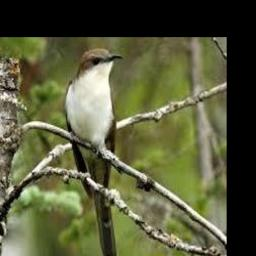Cuckoo: (64, 48, 119, 256)
